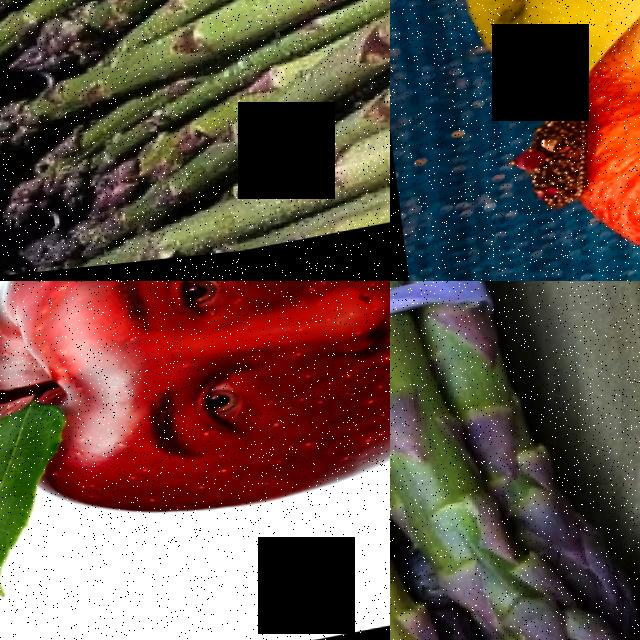apple: (0, 281, 390, 558), (515, 0, 640, 281)
asparagus: (0, 0, 390, 154), (12, 122, 390, 276), (508, 396, 623, 640), (390, 296, 460, 568), (390, 558, 470, 640)
